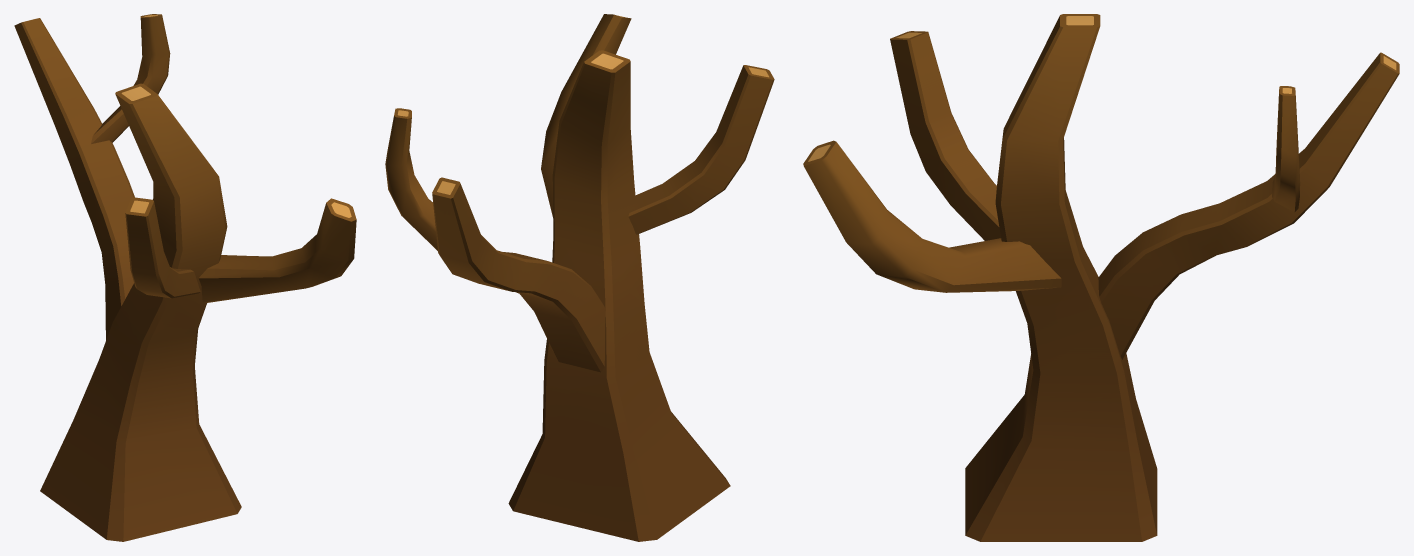
Rendered from Tree_4_2.obj.
The picture shows the model from 3 angles, left to right: view 1: azimuth 30°, elevation 25°; view 2: azimuth 150°, elevation 25°; view 3: azimuth 270°, elevation 25°; orthographic projection. The views are drawn at different scales.
Parts seen in each view (by area): view 1: Tree_4_2; view 2: Tree_4_2; view 3: Tree_4_2.
Boxes of the visible parts, box(x1,y1,x2,y2) form: Tree_4_2: box(14, 14, 356, 541); Tree_4_2: box(385, 14, 774, 541); Tree_4_2: box(803, 14, 1399, 541).
Size of the model in its own units: 1.53 by 2.81 by 3.13.
